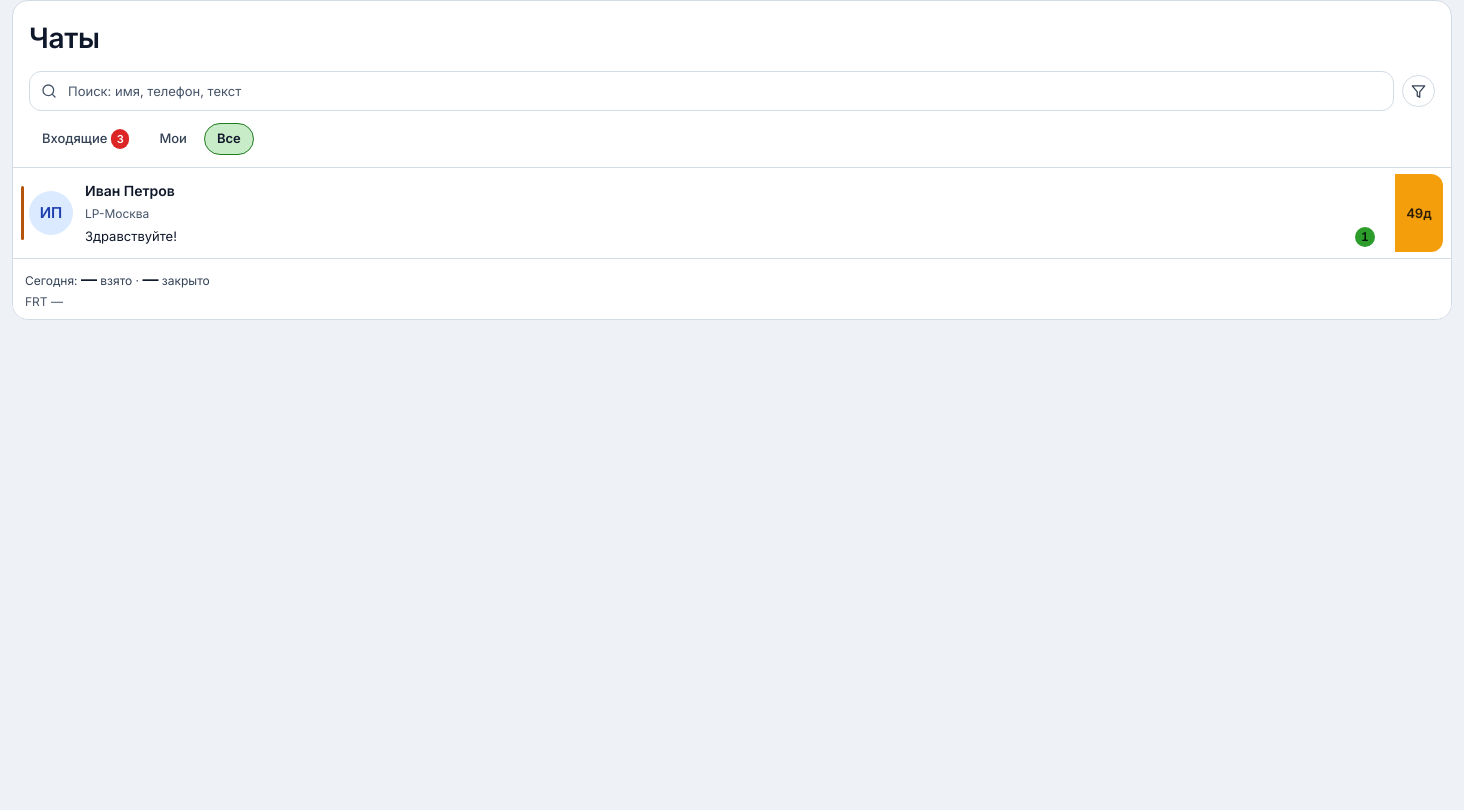
Test: Вкладка «Входящие» › возвращённый диалог встаёт НАВЕРХ очереди, а не в хвост
Click the tab "Входящие 3".
click(86, 139)  # box [29,123,142,155]
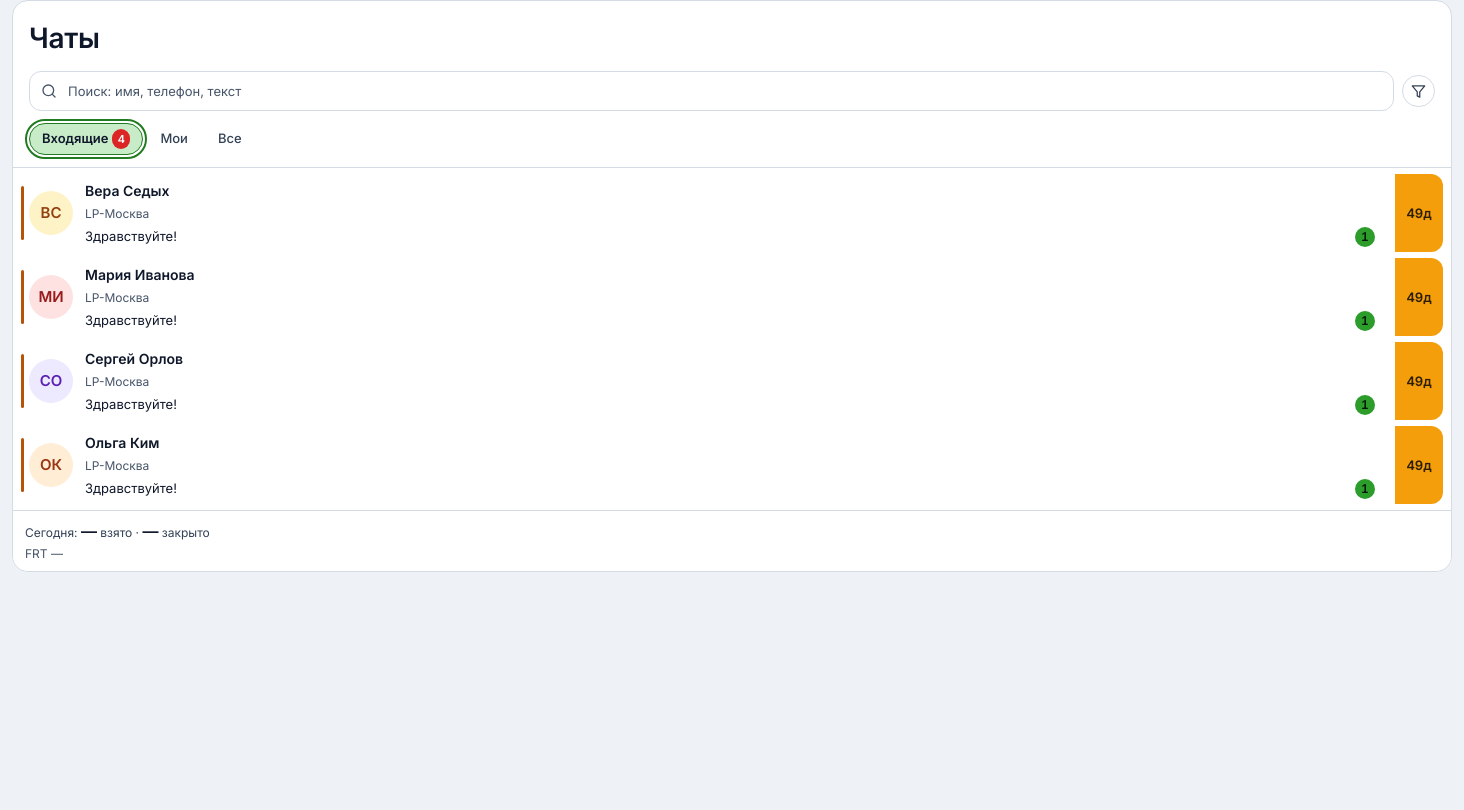
expect the text "Мария Иванова" is shown: met, box [85,266,195,282]
expect the text "Вера Седых" is shown: met, box [85,182,170,198]
